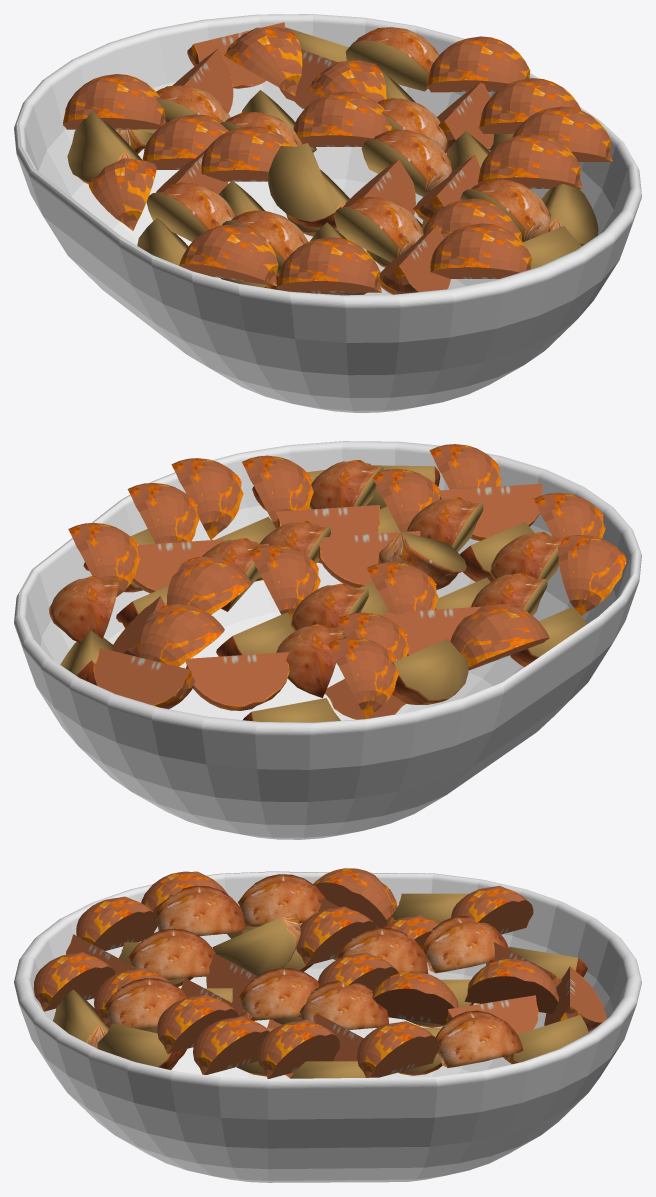
The model's file is BakedSalad.fbx.
The picture shows the model from 3 angles, top to bottom: view 1: azimuth 30°, elevation 25°; view 2: azimuth 150°, elevation 25°; view 3: azimuth 270°, elevation 25°; orthographic projection. The views are drawn at different scales.
Parts seen in each view (by area): view 1: Plate, OrangeShere, AppleShere; view 2: Plate, OrangeShere, AppleShere; view 3: Plate, OrangeShere, AppleShere.
Boxes of the visible parts, x1,y1,x2,y2 form: Plate: (14,14,641,412); OrangeShere: (63,22,612,294); AppleShere: (67,27,598,295); Plate: (14,441,641,839); OrangeShere: (68,444,626,719); AppleShere: (48,460,587,722); Plate: (14,871,641,1182); OrangeShere: (33,868,606,1078); AppleShere: (53,874,588,1078).
Size of the model in its own units: 0.6025 by 0.7598 by 0.2954.
Materials: 2 (2 with a texture image).
